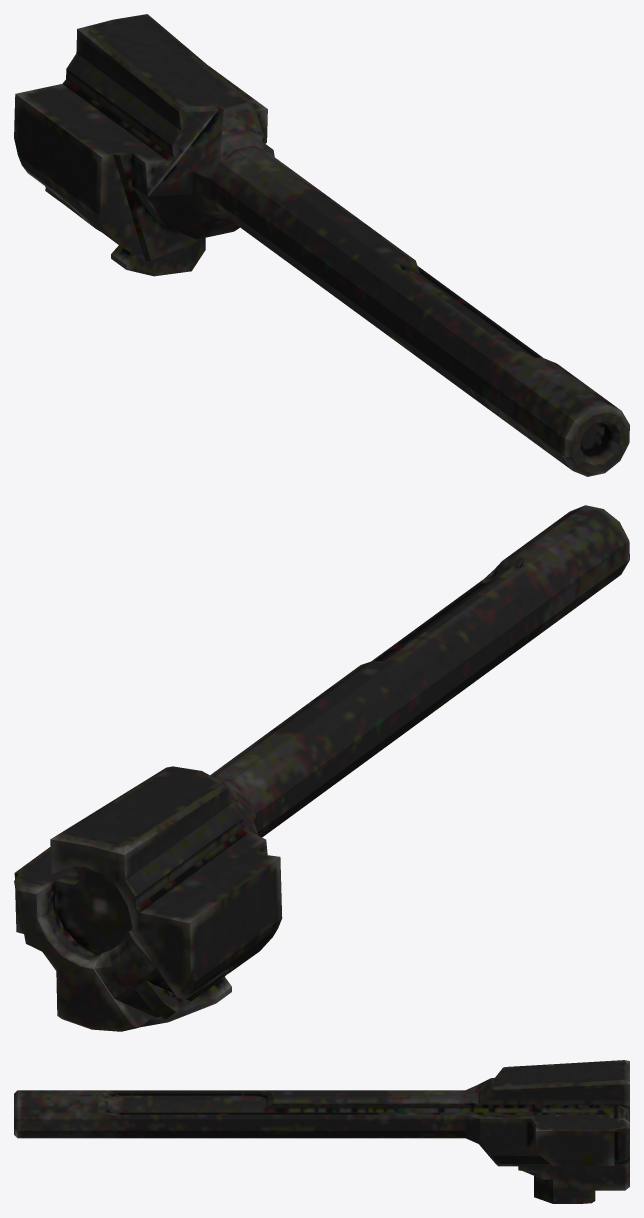
3 views of the same model, one above another, from view 1: azimuth 30°, elevation 25°; view 2: azimuth 150°, elevation 25°; view 3: azimuth 270°, elevation 25° (orthographic). The views are drawn at different scales.
Visible parts, largest first — view 1: TW_5beed0f50db834001c062b12_PZ_Import; view 2: TW_5beed0f50db834001c062b12_PZ_Import; view 3: TW_5beed0f50db834001c062b12_PZ_Import.
Part boxes in pixels (x1,y1,x2,y2): TW_5beed0f50db834001c062b12_PZ_Import: [14, 14, 629, 476]; TW_5beed0f50db834001c062b12_PZ_Import: [14, 505, 629, 1031]; TW_5beed0f50db834001c062b12_PZ_Import: [14, 1060, 629, 1203].
Size of the model in its own units: 0.0134 by 0.0627 by 0.0143.
1 material, 1 textured.
